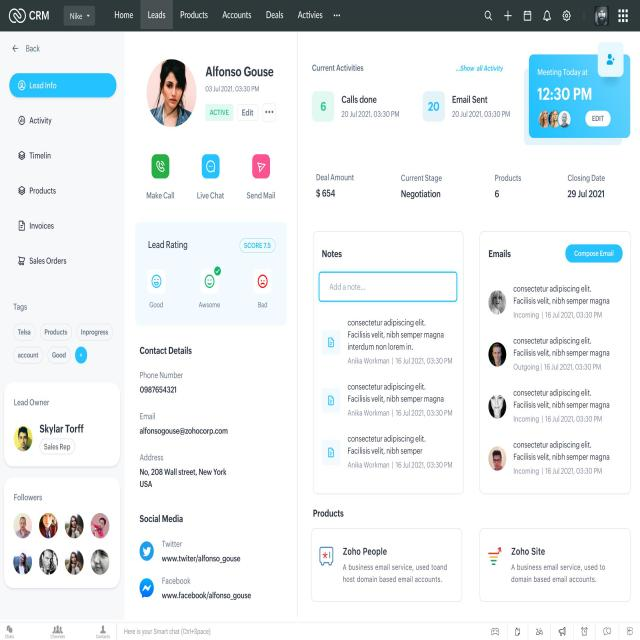button: (564, 243, 624, 264), (204, 102, 233, 121), (237, 101, 259, 121), (586, 110, 612, 126), (262, 102, 276, 120)
input: (318, 272, 458, 302)
